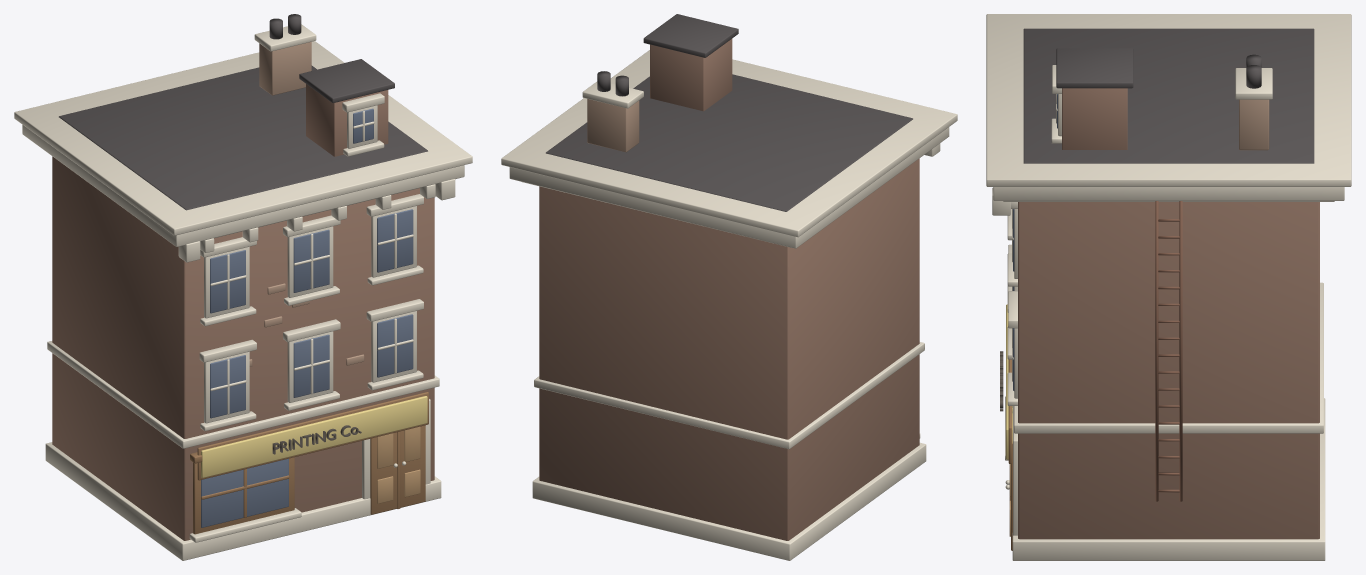
The model's file is edificio_08a.glb.
The picture shows the model from 3 angles, left to right: view 1: azimuth 30°, elevation 25°; view 2: azimuth 150°, elevation 25°; view 3: azimuth 270°, elevation 25°; orthographic projection. The views are drawn at different scales.
Visible parts, largest first — view 1: corpo, tetto, cornicione_corona, zoccolo, insegna_h, cornicione_fascia, fascia_pt, vetrina_vetro_C, abbaino_corpo, abbaino_tetto, comignolo_fusto, fin_p2_1_vetro (+24 smaller); view 2: corpo, tetto, cornicione_corona, zoccolo, cornicione_fascia, abbaino_corpo, fascia_pt, abbaino_tetto, comignolo_fusto, comignolo_cappello; view 3: corpo, tetto, cornicione_corona, zoccolo, cornicione_fascia, abbaino_corpo, fascia_pt, abbaino_tetto, comignolo_fusto, lato_montante_0, lato_montante_1, comignolo_cappello (+1 smaller).
Part boxes in pixels (x1,y1,x2,y2): corpo: (52,156,434,540); tetto: (59,65,427,210); cornicione_corona: (14,41,472,235); zoccolo: (45,442,441,560); insegna_h: (201,396,427,477); cornicione_fascia: (22,125,464,246); fascia_pt: (47,341,439,448); vetrina_vetro_C: (201,458,288,527); abbaino_corpo: (306,84,388,156); abbaino_tetto: (299,59,394,102); comignolo_fusto: (259,42,311,95); fin_p2_1_vetro: (293,229,329,292); corpo: (539,158,919,540); tetto: (546,74,912,211); cornicione_corona: (501,50,957,237); zoccolo: (532,442,926,560); cornicione_fascia: (509,127,949,248); abbaino_corpo: (650,39,732,111); fascia_pt: (534,342,924,449); abbaino_tetto: (643,14,738,57); comignolo_fusto: (587,99,639,152); comignolo_cappello: (582,81,643,108); corpo: (1018,202,1319,539); tetto: (1023,28,1314,163); cornicione_corona: (986,14,1351,186); zoccolo: (1012,398,1325,560); cornicione_fascia: (993,187,1344,200); abbaino_corpo: (1062,88,1127,149); fascia_pt: (1014,282,1323,433); abbaino_tetto: (1056,48,1133,88); comignolo_fusto: (1239,99,1269,150); lato_montante_0: (1155,201,1158,501); lato_montante_1: (1179,201,1182,501); comignolo_cappello: (1235,68,1272,99).
Size of the model in its own units: 7.15 by 9.46 by 6.65.
